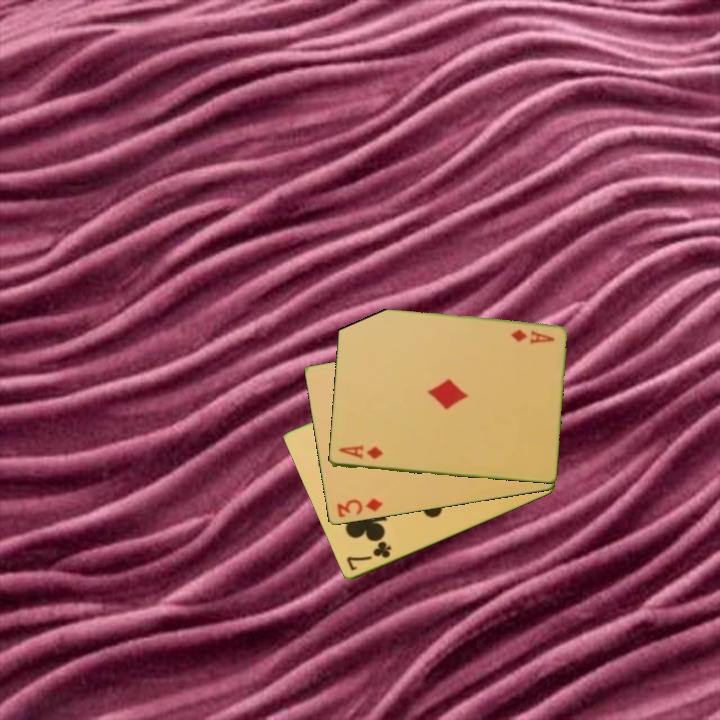3d: (333, 495, 386, 521)
7c: (342, 538, 394, 574)
Ad: (335, 442, 385, 463), (507, 326, 557, 347)
